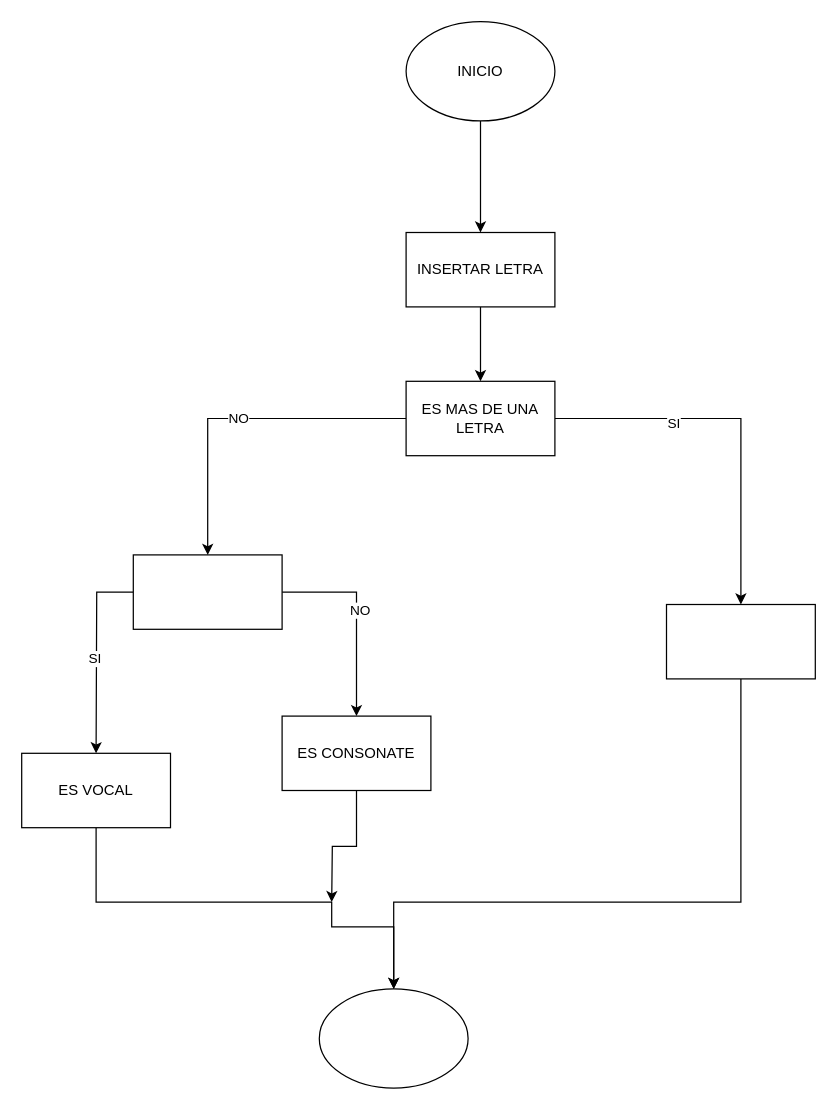
The diagram is 837 pixels wide and 1110 high, and some of its shapes have lost their labels. The shapes that lost their labels are listed below. From the top down, each one's centre as x and y in pixels, then its label:
At pixel 207 591: "LA LETRA ES A,E,I,O,U".
At pixel 740 641: "INGRESE UNA SOLA LETRA".
At pixel 393 1038: "FIN".
